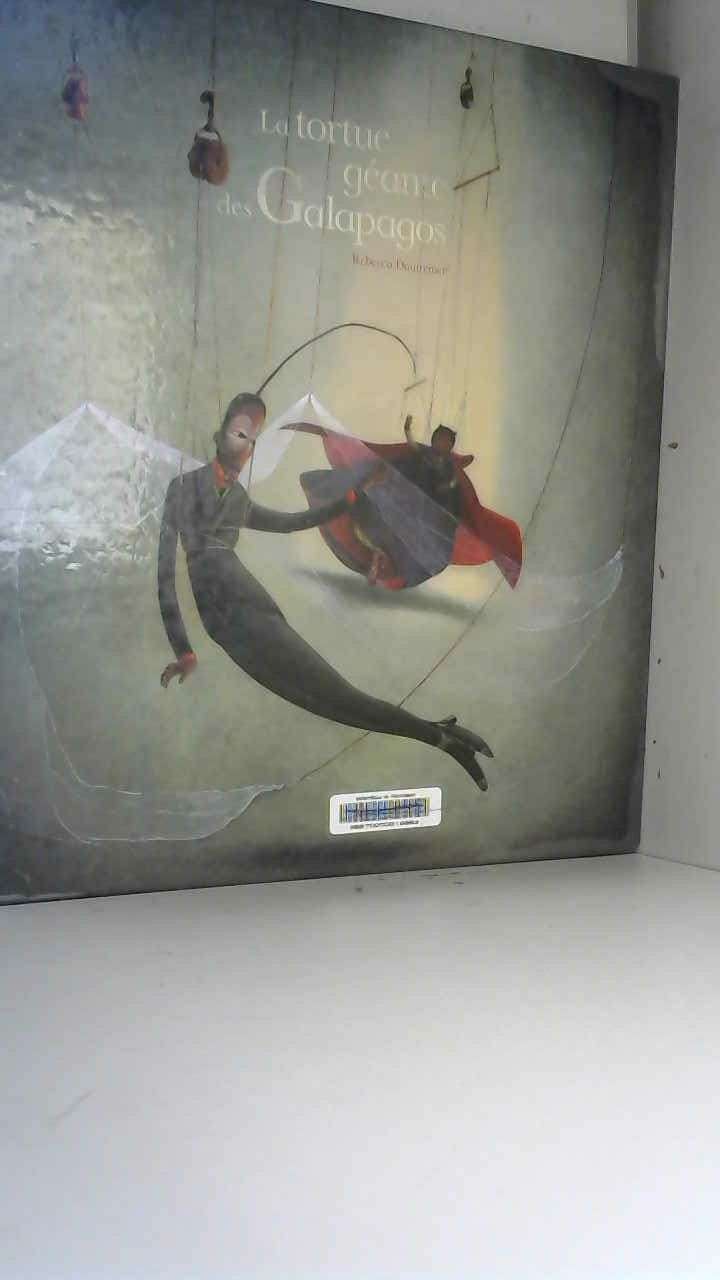book: (0, 0, 696, 909)
